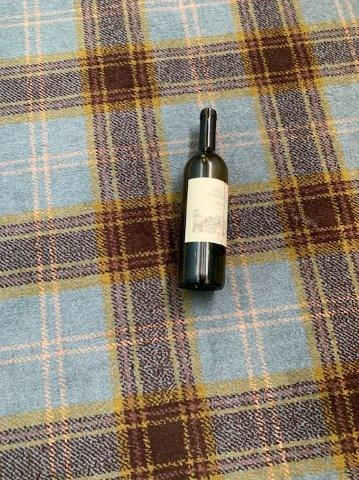botolkaca: (178, 107, 228, 288)
